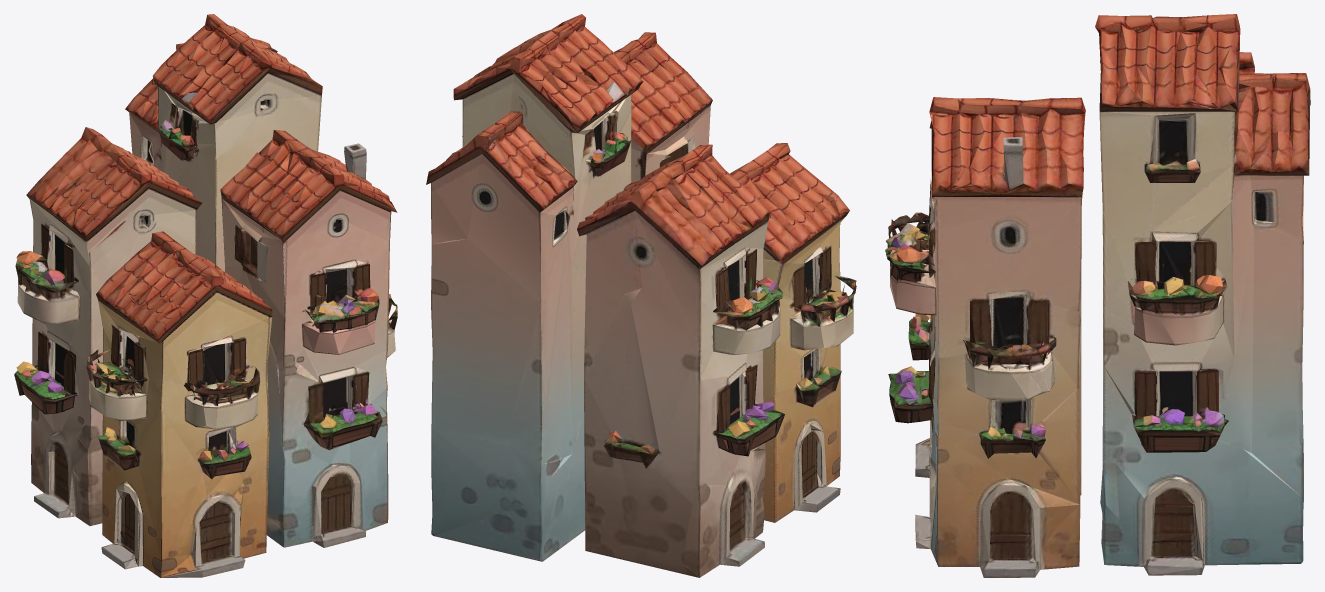
File: houses.glb
3 views of the same model, side by side, from view 1: azimuth 30°, elevation 25°; view 2: azimuth 150°, elevation 25°; view 3: azimuth 270°, elevation 25° (orthographic). The views are drawn at different scales.
Size of the model in its own units: 1.38 by 1.9 by 1.41.
1 material, 1 textured.
